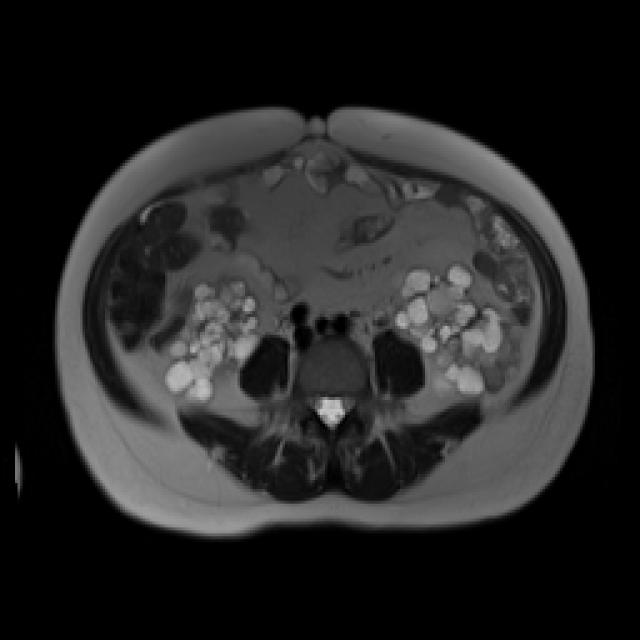sag: (162, 278, 264, 409)
sol: (388, 260, 525, 400)
